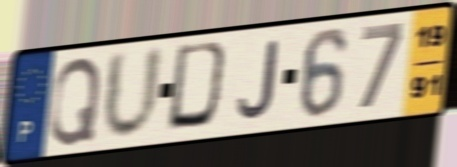6: (298, 25, 351, 121)
7: (355, 18, 409, 114)
D: (164, 38, 235, 134)
J: (234, 37, 280, 122)
Q: (47, 54, 104, 149)
U: (100, 43, 166, 144)
